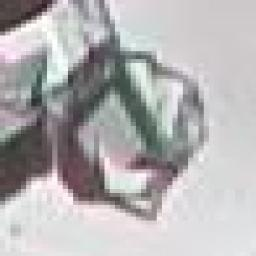crystals: (40, 47, 215, 228)
